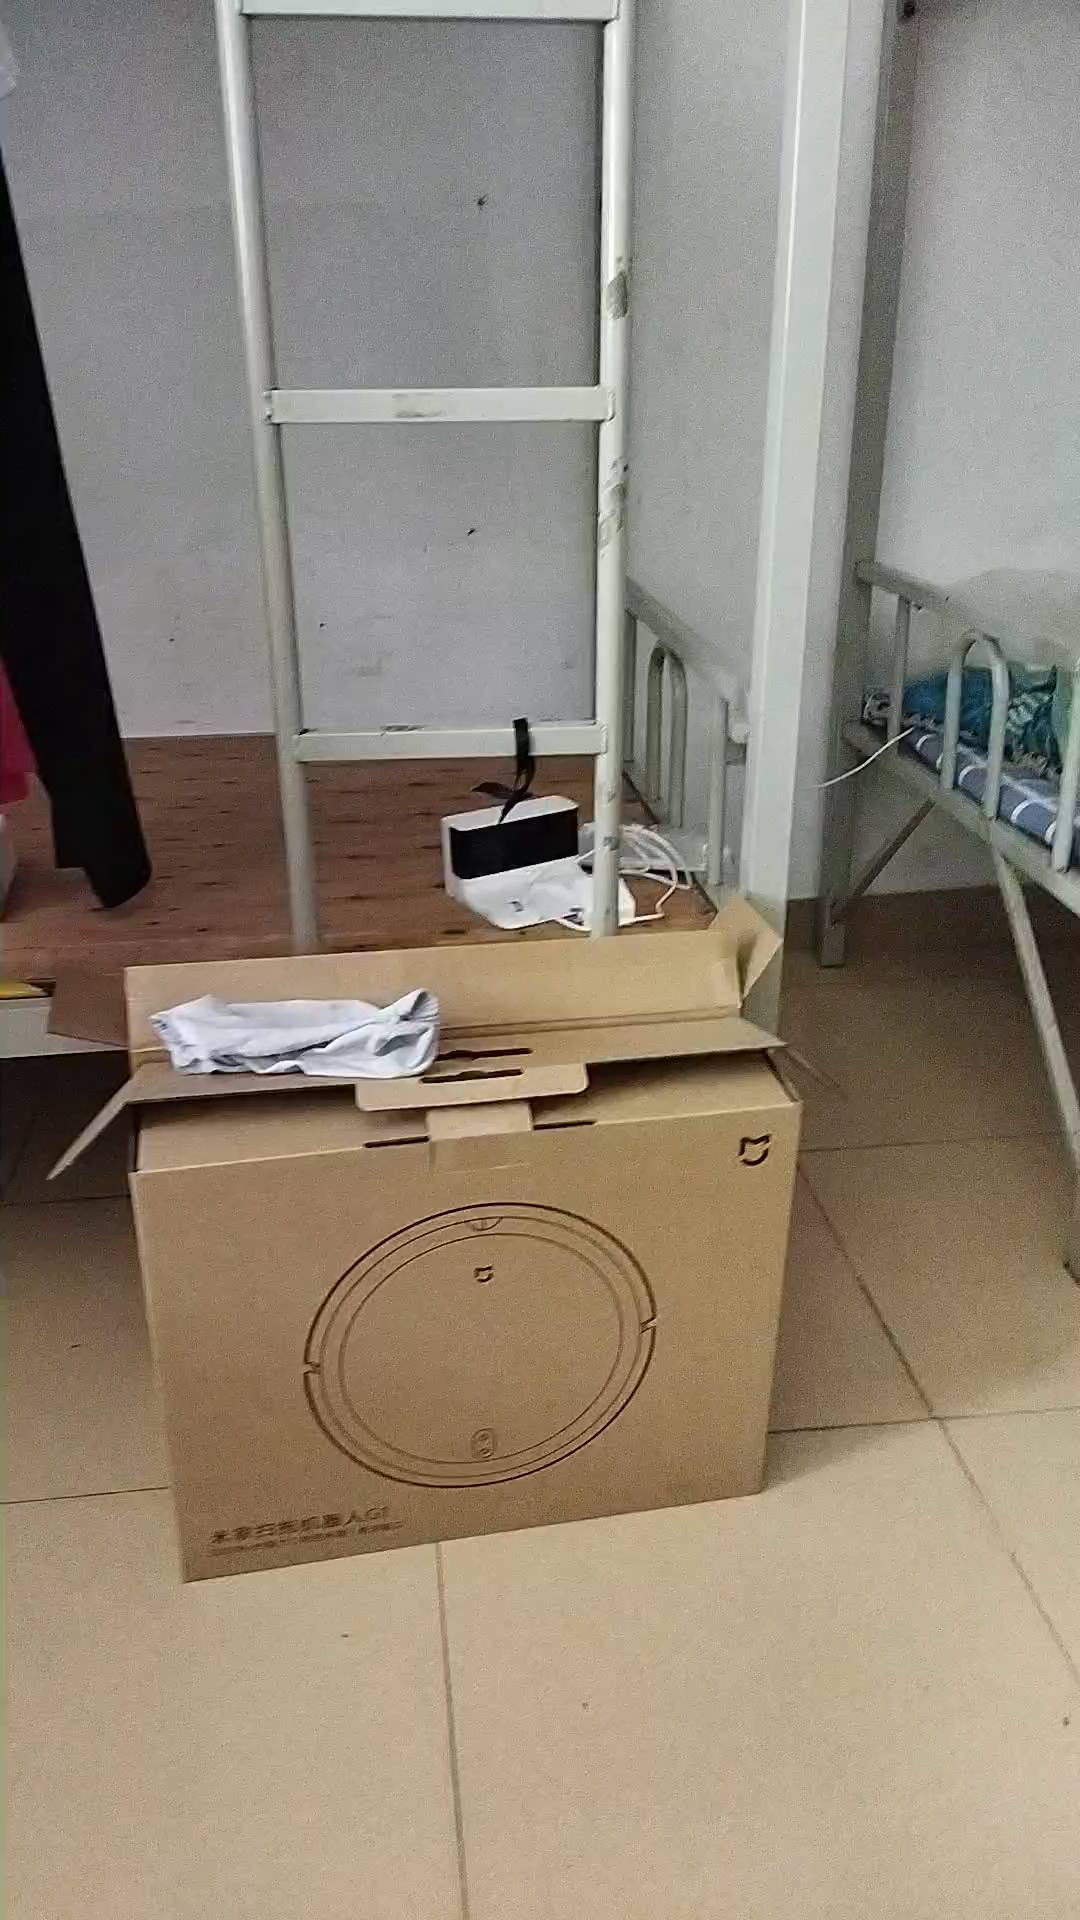recharge seat: (440, 793, 591, 928)
